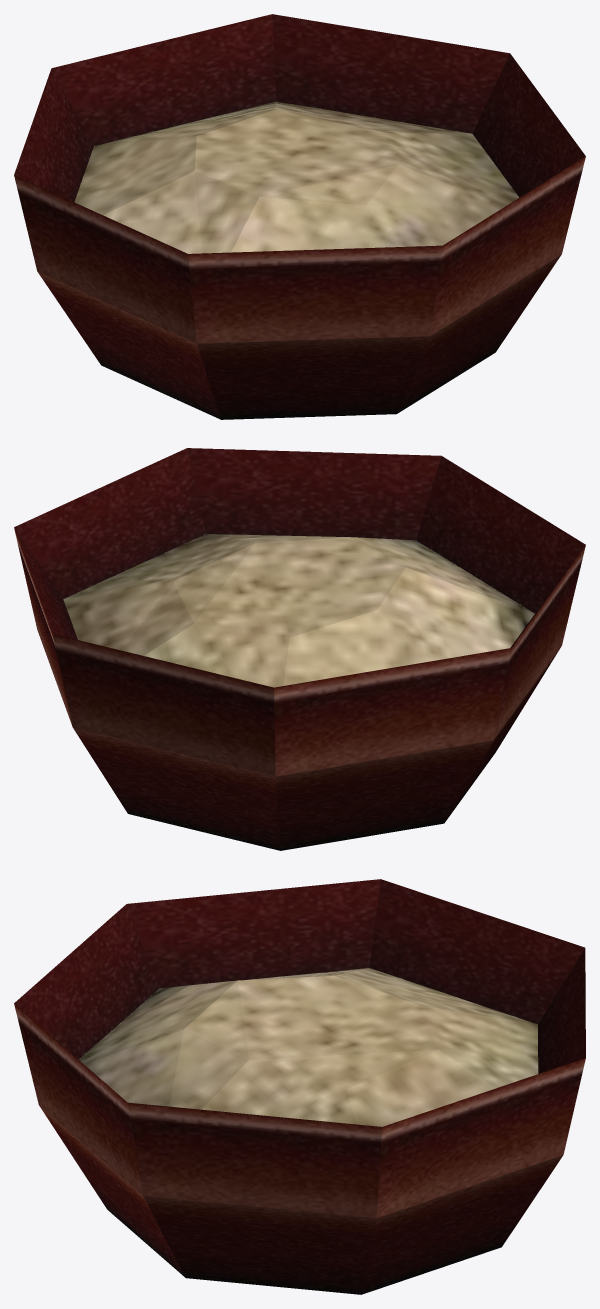
File: ITFO_STEW_01.glb
3 views of the same model, one above another, from view 1: azimuth 30°, elevation 25°; view 2: azimuth 150°, elevation 25°; view 3: azimuth 270°, elevation 25° (orthographic). The views are drawn at different scales.
Visible parts, largest first — view 1: ITFO_STEW_01; view 2: ITFO_STEW_01; view 3: ITFO_STEW_01.
Part boxes in pixels (left/top/right/bottom): ITFO_STEW_01: left=14, top=14, right=585, bottom=419; ITFO_STEW_01: left=14, top=448, right=585, bottom=850; ITFO_STEW_01: left=14, top=879, right=585, bottom=1294.
Bounding box in the file's own units: 0.3219 × 0.131 × 0.314.
Materials: 2 (2 with a texture image).
